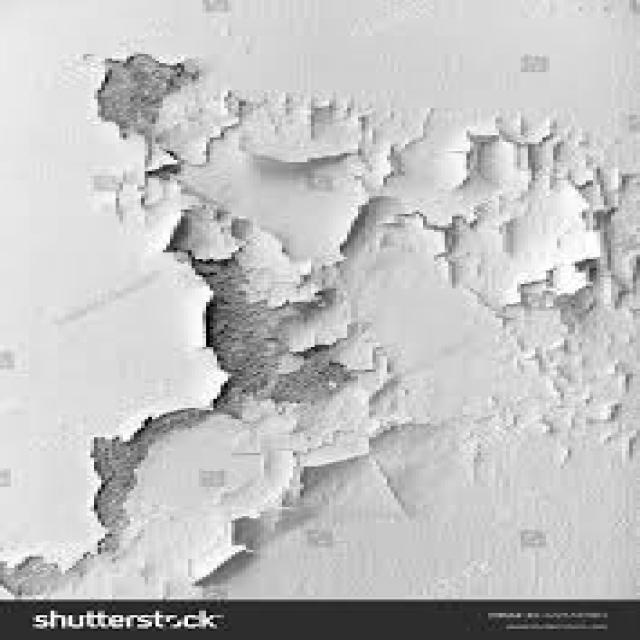peeling paint: (2, 36, 640, 599)
